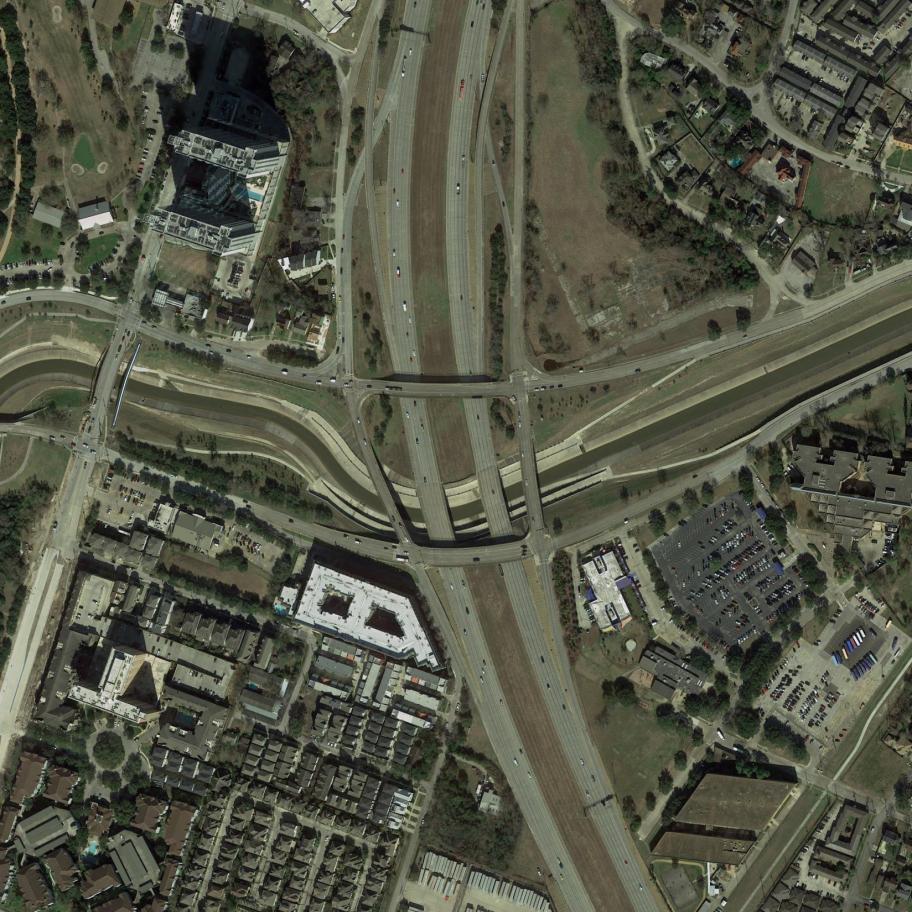large-vehicle: (445, 879, 456, 902), (401, 58, 408, 77), (860, 659, 871, 671), (862, 657, 873, 668), (835, 650, 843, 665), (848, 636, 857, 649), (855, 630, 864, 643), (849, 668, 858, 681), (855, 663, 864, 676), (846, 638, 854, 652), (733, 747, 747, 755), (865, 655, 875, 666), (868, 653, 878, 664), (843, 641, 851, 654), (459, 81, 464, 101), (858, 662, 867, 673), (884, 620, 893, 631), (841, 646, 848, 660), (852, 634, 860, 646), (853, 666, 861, 678), (832, 653, 839, 666), (868, 629, 877, 639), (717, 731, 726, 741), (892, 637, 898, 651), (386, 387, 402, 392), (396, 557, 409, 563), (859, 627, 866, 638), (355, 540, 361, 545), (462, 156, 465, 166), (397, 269, 400, 278), (404, 304, 407, 312), (457, 186, 460, 194)
small-vehicle: (735, 245, 742, 251), (292, 30, 299, 36), (804, 735, 810, 742), (53, 524, 58, 532), (170, 474, 178, 479), (324, 836, 330, 842), (513, 760, 519, 766), (859, 703, 865, 709), (527, 772, 532, 779), (580, 759, 585, 766), (585, 790, 590, 797), (537, 869, 542, 876), (651, 622, 658, 627), (540, 656, 545, 663), (250, 276, 257, 281), (107, 273, 112, 280), (140, 258, 145, 265), (281, 371, 288, 376), (87, 427, 92, 434), (810, 738, 815, 745), (456, 703, 460, 711), (624, 860, 629, 866), (116, 721, 121, 727), (327, 740, 332, 746), (590, 618, 596, 623), (660, 606, 666, 611), (859, 605, 864, 611), (863, 148, 869, 153), (866, 141, 872, 146), (314, 736, 319, 742), (214, 277, 220, 282), (143, 149, 149, 154), (143, 90, 149, 95), (47, 268, 53, 273), (70, 242, 75, 248), (257, 545, 262, 551), (252, 542, 257, 548), (171, 678, 176, 684), (148, 633, 153, 639), (284, 623, 290, 628), (246, 504, 252, 509), (343, 534, 349, 539), (83, 462, 88, 468), (119, 508, 124, 514), (119, 493, 124, 499), (137, 500, 142, 506), (139, 493, 144, 499), (795, 695, 800, 701), (778, 594, 784, 599), (788, 580, 794, 585), (835, 612, 841, 617), (716, 907, 722, 912), (831, 698, 837, 703), (816, 721, 822, 726), (745, 549, 751, 554), (743, 557, 749, 562), (760, 545, 766, 550), (636, 585, 642, 590), (634, 580, 640, 585), (769, 537, 775, 542), (727, 526, 733, 531), (758, 610, 763, 616), (755, 608, 761, 613), (686, 597, 692, 602), (462, 582, 466, 589), (639, 884, 643, 891), (481, 75, 485, 82), (157, 649, 161, 656), (151, 646, 155, 653), (93, 402, 97, 409), (118, 345, 122, 352), (512, 397, 517, 402), (664, 534, 669, 539), (559, 875, 564, 880), (559, 864, 564, 869), (203, 688, 208, 693), (881, 603, 886, 608), (761, 484, 766, 489), (783, 472, 788, 477), (787, 467, 792, 472), (707, 169, 712, 174), (694, 112, 699, 117), (855, 592, 860, 597), (745, 499, 750, 504), (739, 492, 744, 497), (875, 609, 880, 614), (861, 607, 866, 612), (867, 603, 872, 608), (871, 606, 876, 611), (803, 34, 808, 39), (907, 30, 912, 35), (783, 112, 788, 117), (238, 269, 243, 274), (75, 616, 80, 621), (156, 637, 161, 642), (293, 628, 298, 633), (134, 492, 139, 497), (768, 680, 773, 685), (768, 534, 773, 539), (787, 708, 792, 713), (788, 706, 793, 711), (790, 704, 795, 709), (801, 687, 806, 692), (761, 712, 766, 717), (759, 710, 764, 715), (785, 700, 790, 705), (800, 681, 805, 686), (776, 596, 781, 601), (786, 589, 791, 594), (779, 588, 784, 593), (784, 585, 789, 590), (795, 570, 800, 575), (796, 643, 801, 648), (836, 692, 841, 697), (804, 846, 809, 851), (825, 816, 830, 821), (829, 693, 834, 698), (810, 702, 815, 707), (808, 723, 813, 728), (809, 721, 814, 726), (815, 714, 820, 719), (752, 550, 757, 555), (726, 569, 731, 574), (682, 520, 687, 525), (703, 504, 708, 509), (671, 568, 676, 573), (686, 615, 691, 620), (699, 639, 704, 644), (717, 591, 722, 596), (404, 536, 408, 542), (531, 517, 535, 523), (466, 609, 470, 615), (330, 741, 334, 747), (357, 418, 361, 424), (406, 413, 410, 419), (522, 550, 528, 554), (591, 776, 595, 782), (209, 690, 213, 696), (500, 700, 504, 706), (562, 704, 566, 710), (547, 685, 551, 691), (480, 677, 484, 683), (445, 723, 449, 729), (742, 336, 748, 340), (756, 519, 762, 523), (692, 475, 698, 479), (777, 105, 781, 111), (867, 47, 873, 51), (648, 134, 652, 140), (840, 75, 844, 81), (819, 78, 823, 84), (334, 743, 338, 749), (253, 109, 257, 115), (279, 704, 283, 710), (343, 383, 349, 387), (207, 335, 213, 339), (205, 345, 211, 349), (226, 293, 230, 299), (245, 287, 249, 293), (232, 283, 238, 287), (340, 268, 344, 274), (169, 158, 173, 164), (151, 173, 157, 177), (152, 120, 158, 124), (165, 124, 171, 128), (162, 179, 166, 185), (129, 298, 133, 304), (316, 382, 322, 386), (255, 543, 259, 549), (243, 535, 247, 541), (239, 533, 243, 539), (232, 525, 236, 531), (246, 522, 250, 528), (127, 330, 131, 336), (106, 480, 112, 484), (107, 476, 113, 480), (144, 467, 150, 471), (90, 450, 96, 454), (122, 336, 126, 342), (143, 494, 147, 500), (124, 495, 128, 501), (127, 496, 131, 502), (135, 499, 139, 505), (140, 501, 144, 507), (131, 475, 135, 481), (129, 489, 133, 495), (761, 690, 765, 696), (765, 685, 769, 691), (826, 671, 830, 677), (804, 581, 810, 585), (780, 665, 784, 671), (783, 660, 787, 666), (792, 647, 796, 653), (813, 643, 819, 647), (830, 619, 836, 623), (833, 614, 839, 618), (815, 831, 821, 835), (220, 31, 224, 37), (724, 28, 730, 32), (833, 881, 837, 887), (871, 827, 875, 833), (869, 900, 875, 904), (864, 904, 870, 908), (819, 745, 823, 751), (839, 734, 845, 738), (757, 541, 763, 545), (732, 564, 738, 568), (690, 591, 696, 595), (705, 578, 711, 582), (733, 559, 739, 563), (678, 523, 684, 527), (700, 546, 706, 550), (708, 541, 714, 545), (710, 539, 716, 543), (712, 537, 718, 541), (720, 532, 726, 536), (730, 566, 736, 570), (735, 627, 741, 631), (764, 563, 768, 569), (767, 561, 771, 567), (682, 626, 686, 632), (672, 604, 678, 608), (689, 596, 695, 600), (697, 592, 703, 596), (715, 579, 721, 583), (762, 557, 766, 563), (525, 479, 528, 486), (403, 552, 410, 555), (221, 291, 224, 298), (108, 509, 111, 516), (517, 412, 521, 417), (450, 585, 454, 590), (469, 76, 473, 81), (416, 439, 420, 444), (521, 546, 526, 550), (522, 554, 527, 558), (98, 794, 102, 799), (206, 690, 210, 695), (199, 687, 203, 692), (211, 692, 215, 697), (134, 738, 139, 742), (519, 749, 523, 754), (624, 520, 629, 524), (633, 544, 638, 548), (635, 549, 640, 553), (584, 603, 589, 607), (589, 613, 594, 617), (878, 600, 883, 604), (822, 543, 826, 548), (875, 562, 879, 567), (757, 478, 761, 483), (790, 465, 795, 469), (867, 264, 872, 268), (763, 123, 768, 127), (876, 598, 881, 602), (859, 597, 864, 601), (865, 602, 870, 606), (760, 524, 765, 528), (750, 506, 755, 510), (747, 502, 752, 506), (863, 609, 868, 613), (871, 614, 875, 619), (863, 600, 868, 604), (691, 106, 696, 110), (686, 102, 690, 107), (857, 36, 861, 41), (859, 33, 863, 38), (875, 37, 880, 41), (897, 24, 902, 28), (895, 26, 900, 30), (843, 77, 847, 82), (723, 63, 728, 67), (790, 98, 794, 103), (797, 102, 801, 107), (810, 108, 814, 113), (842, 91, 846, 96), (821, 65, 825, 70), (829, 69, 833, 74), (1, 301, 6, 305), (152, 326, 157, 330), (226, 349, 231, 353), (236, 276, 241, 280), (240, 264, 245, 268), (151, 175, 156, 179), (139, 162, 144, 166), (147, 139, 152, 143), (148, 133, 153, 137), (157, 112, 162, 116), (93, 265, 97, 270), (97, 262, 101, 267), (105, 259, 109, 264), (111, 252, 116, 256), (323, 212, 328, 216), (302, 375, 307, 379), (104, 524, 108, 529), (139, 578, 144, 582), (214, 543, 219, 547), (214, 540, 219, 544), (242, 541, 246, 546), (248, 539, 252, 544), (246, 538, 250, 543), (236, 533, 240, 538), (76, 614, 81, 618), (216, 679, 220, 684), (213, 678, 217, 683), (200, 674, 204, 679), (192, 671, 196, 676), (177, 680, 181, 685), (189, 670, 193, 675), (122, 625, 126, 630), (169, 641, 173, 646), (164, 639, 168, 644), (128, 524, 133, 528), (108, 472, 113, 476), (243, 500, 248, 504), (289, 520, 294, 524), (60, 436, 65, 440), (91, 419, 95, 424), (115, 355, 119, 360), (105, 483, 110, 487), (128, 518, 132, 523), (130, 512, 134, 517), (122, 487, 126, 492), (142, 479, 146, 484), (137, 477, 141, 482), (134, 476, 138, 481), (766, 532, 771, 536), (792, 700, 797, 704), (757, 707, 761, 712), (783, 706, 788, 710), (784, 703, 789, 707), (788, 697, 793, 701), (789, 694, 794, 698), (805, 682, 810, 686), (794, 689, 799, 693), (798, 684, 803, 688), (771, 678, 775, 683), (772, 675, 776, 680), (774, 672, 778, 677), (776, 670, 780, 675), (785, 592, 790, 596), (767, 602, 772, 606), (766, 598, 771, 602), (768, 596, 773, 600), (771, 594, 776, 598), (773, 592, 778, 596), (782, 587, 787, 591), (793, 568, 798, 572), (792, 565, 797, 569), (803, 590, 807, 595), (782, 663, 786, 668), (837, 609, 842, 613), (821, 679, 825, 684), (825, 682, 829, 687), (818, 825, 823, 829), (820, 823, 825, 827), (823, 819, 828, 823), (797, 858, 802, 862), (826, 893, 830, 898), (820, 891, 824, 896), (801, 883, 805, 888), (795, 863, 800, 867), (828, 879, 832, 884), (812, 874, 816, 879), (810, 873, 814, 878), (807, 871, 811, 876), (802, 715, 806, 720), (805, 709, 809, 714), (807, 706, 811, 711), (809, 704, 813, 709), (814, 697, 818, 702), (816, 694, 820, 699), (797, 712, 801, 717), (800, 710, 804, 715), (803, 704, 807, 709), (805, 702, 809, 707), (810, 693, 814, 698), (813, 689, 817, 694), (826, 698, 831, 702), (785, 721, 790, 725), (819, 708, 824, 712), (823, 713, 827, 718), (748, 547, 753, 551), (750, 546, 755, 550), (753, 544, 758, 548), (743, 552, 748, 556), (738, 555, 743, 559), (758, 547, 763, 551), (740, 559, 745, 563), (749, 552, 754, 556), (755, 549, 760, 553), (736, 556, 741, 560), (702, 582, 707, 586), (709, 575, 714, 579), (714, 573, 719, 577), (719, 569, 724, 573), (623, 557, 628, 561), (771, 550, 775, 555), (774, 543, 779, 547), (772, 541, 777, 545), (727, 520, 732, 524), (722, 524, 727, 528), (715, 530, 720, 534), (698, 542, 703, 546), (725, 529, 730, 533), (730, 524, 735, 528), (732, 522, 737, 526), (726, 646, 730, 651), (724, 644, 728, 649), (722, 642, 726, 647), (740, 623, 745, 627), (741, 621, 746, 625), (745, 619, 750, 623), (736, 621, 741, 625), (754, 606, 759, 610), (765, 577, 770, 581), (743, 572, 747, 577), (721, 573, 726, 577), (680, 625, 684, 630), (675, 622, 679, 627), (670, 618, 674, 623), (700, 610, 704, 615), (671, 602, 676, 606), (668, 597, 673, 601), (699, 590, 704, 594), (705, 586, 710, 590), (707, 584, 712, 588), (693, 635, 697, 640), (696, 636, 700, 641), (720, 589, 724, 594), (727, 606, 732, 610), (721, 612, 726, 616), (722, 594, 726, 599), (724, 592, 728, 597), (727, 590, 731, 595), (713, 594, 717, 599), (750, 566, 754, 571), (241, 102, 244, 108), (502, 201, 505, 207), (393, 251, 396, 257), (409, 318, 412, 324), (364, 440, 367, 446), (421, 426, 424, 432), (421, 819, 424, 825), (114, 721, 117, 727), (483, 662, 486, 668), (482, 669, 485, 675), (844, 166, 850, 169), (856, 39, 859, 45), (39, 273, 42, 279), (332, 292, 335, 298), (330, 379, 336, 382), (236, 273, 242, 276), (142, 118, 145, 124), (88, 267, 91, 273), (91, 266, 94, 272), (103, 260, 106, 266), (342, 235, 345, 241), (130, 568, 136, 571), (247, 546, 250, 552), (254, 549, 257, 555), (92, 601, 98, 604), (195, 672, 198, 678), (103, 487, 109, 490), (133, 490, 136, 496), (823, 676, 826, 682), (801, 591, 804, 597), (786, 657, 789, 663), (769, 616, 772, 622), (817, 829, 823, 832), (485, 780, 488, 786), (742, 537, 745, 543), (744, 535, 747, 541), (751, 531, 754, 537), (736, 564, 742, 567), (745, 557, 751, 560), (678, 542, 681, 548), (724, 544, 727, 550), (731, 539, 734, 545), (723, 610, 729, 613), (587, 608, 591, 612), (588, 610, 592, 614), (402, 688, 406, 692), (689, 104, 693, 108), (766, 491, 770, 495), (752, 508, 756, 512), (749, 504, 753, 508), (861, 599, 865, 603), (869, 613, 873, 617), (869, 605, 873, 609), (874, 608, 878, 612), (900, 20, 904, 24), (795, 101, 799, 105), (813, 110, 817, 114), (802, 56, 806, 60), (823, 67, 827, 71), (142, 321, 146, 325), (116, 245, 120, 249), (118, 240, 122, 244), (241, 536, 245, 540), (218, 681, 222, 685), (79, 606, 83, 610), (124, 488, 128, 492), (762, 526, 766, 530), (765, 530, 769, 534), (767, 684, 771, 688), (798, 692, 802, 696), (801, 851, 805, 855), (804, 885, 808, 889), (812, 699, 816, 703), (801, 707, 805, 711), (806, 699, 810, 703), (828, 705, 832, 709), (821, 706, 825, 710), (815, 723, 819, 727), (820, 717, 824, 721), (821, 715, 825, 719), (811, 720, 815, 724), (814, 716, 818, 720), (818, 710, 822, 714), (755, 542, 759, 546), (724, 565, 728, 569), (725, 522, 729, 526), (762, 581, 766, 585), (715, 651, 719, 655), (711, 648, 715, 652), (747, 595, 751, 599), (736, 577, 740, 581), (744, 593, 748, 597), (691, 633, 695, 637), (677, 623, 681, 627), (702, 641, 706, 645), (704, 643, 708, 647), (541, 388, 546, 391), (521, 452, 524, 457), (491, 489, 494, 494), (392, 517, 395, 522), (399, 523, 402, 528), (392, 546, 397, 549), (384, 549, 389, 552), (464, 631, 467, 636), (550, 387, 555, 390), (635, 370, 640, 373), (476, 415, 479, 420), (492, 161, 495, 166), (393, 189, 396, 194), (460, 295, 463, 300), (413, 351, 416, 356), (883, 551, 888, 554), (854, 538, 859, 541), (862, 47, 867, 50), (870, 42, 875, 45), (906, 14, 911, 17), (471, 21, 474, 26), (846, 78, 849, 83), (788, 96, 791, 101), (804, 71, 807, 76), (9, 279, 12, 284), (5, 265, 8, 270), (7, 264, 10, 269), (15, 263, 18, 268), (18, 262, 21, 267), (29, 260, 32, 265), (37, 260, 40, 265), (208, 352, 213, 355), (246, 356, 251, 359), (233, 281, 238, 284), (50, 260, 53, 265), (137, 171, 142, 174), (138, 168, 143, 171), (143, 153, 148, 156), (142, 96, 147, 99), (222, 4, 225, 9), (165, 173, 168, 178), (161, 185, 164, 190), (101, 261, 104, 266), (99, 232, 104, 235), (322, 220, 325, 225), (258, 552, 261, 557), (262, 554, 265, 559), (88, 615, 93, 618), (142, 644, 145, 649), (167, 654, 170, 659), (214, 658, 217, 663), (110, 468, 115, 471), (50, 437, 55, 440), (71, 443, 76, 446), (83, 445, 88, 448), (125, 329, 128, 334), (124, 473, 127, 478), (133, 498, 136, 503), (120, 485, 123, 490), (772, 693, 777, 696), (776, 688, 781, 691), (778, 685, 783, 688), (785, 675, 790, 678), (797, 666, 802, 669), (764, 688, 767, 693), (825, 674, 828, 679), (796, 687, 801, 690), (760, 588, 763, 593), (765, 585, 768, 590), (770, 581, 773, 586), (816, 641, 821, 644), (766, 618, 769, 623), (771, 615, 774, 620), (778, 609, 781, 614), (786, 604, 789, 609), (796, 595, 799, 600), (802, 849, 807, 852), (832, 895, 835, 900), (829, 894, 832, 899), (817, 890, 820, 895), (796, 882, 799, 887), (804, 712, 807, 717), (812, 691, 815, 696), (816, 687, 819, 692), (835, 739, 840, 742), (730, 547, 733, 552), (732, 546, 735, 551), (688, 578, 691, 583), (741, 554, 746, 557), (748, 555, 753, 558), (728, 563, 733, 566), (692, 568, 695, 573), (617, 544, 622, 547), (714, 508, 717, 513), (749, 527, 752, 532), (729, 541, 732, 546), (734, 537, 737, 542), (741, 532, 744, 537), (724, 572, 729, 575), (750, 630, 753, 635), (743, 615, 748, 618), (748, 597, 753, 600), (758, 568, 761, 573), (756, 586, 761, 589), (739, 582, 742, 587), (741, 580, 744, 585), (746, 577, 749, 582), (750, 573, 753, 578), (752, 571, 755, 576), (760, 567, 763, 572), (762, 565, 765, 570), (746, 569, 749, 574), (739, 575, 742, 580), (697, 606, 700, 611), (695, 594, 700, 597), (720, 576, 725, 579), (723, 587, 726, 592), (756, 562, 759, 567), (758, 561, 761, 566), (760, 559, 763, 564), (473, 559, 480, 561), (579, 592, 581, 599), (519, 422, 521, 428), (424, 478, 427, 482), (397, 201, 399, 207), (349, 380, 353, 383), (99, 721, 101, 727), (581, 578, 585, 581), (355, 672, 359, 675), (885, 548, 889, 551), (853, 550, 857, 553), (902, 18, 906, 21), (899, 22, 903, 25), (414, 4, 417, 8), (812, 39, 815, 43), (786, 95, 789, 99), (738, 28, 742, 31), (838, 89, 841, 93), (806, 57, 809, 61), (838, 74, 841, 78), (7, 279, 9, 285), (2, 265, 4, 271), (13, 263, 15, 269), (34, 260, 37, 264), (46, 260, 48, 266), (339, 296, 341, 302), (74, 280, 76, 286), (61, 242, 65, 245), (142, 158, 146, 161), (113, 250, 117, 253), (132, 291, 135, 295), (236, 539, 239, 543), (251, 547, 253, 553), (138, 493, 141, 497), (781, 689, 785, 692), (787, 681, 791, 684), (760, 693, 763, 697), (723, 656, 726, 660), (799, 594, 801, 600), (781, 606, 783, 612), (791, 600, 794, 604), (808, 696, 811, 700), (825, 728, 828, 732), (777, 576, 780, 580), (740, 539, 742, 545), (749, 533, 752, 537), (706, 565, 708, 571), (703, 566, 705, 572), (738, 561, 742, 564), (731, 561, 735, 564), (715, 514, 717, 520), (719, 513, 722, 517), (727, 543, 729, 549), (746, 529, 749, 533), (754, 628, 756, 634), (740, 618, 744, 621), (734, 578, 737, 582), (759, 584, 763, 587), (744, 579, 747, 583), (748, 575, 751, 579), (748, 568, 751, 572), (741, 574, 744, 578), (683, 613, 686, 617), (713, 581, 717, 584), (733, 603, 737, 606), (731, 605, 735, 608), (715, 600, 718, 604), (711, 596, 714, 600), (753, 565, 756, 569), (765, 556, 768, 560), (558, 386, 563, 388), (534, 389, 539, 391), (414, 402, 416, 407), (580, 581, 585, 583), (410, 50, 412, 55), (885, 546, 890, 548), (835, 572, 837, 577), (11, 264, 13, 269), (21, 262, 23, 267), (40, 260, 42, 265), (43, 259, 45, 264), (343, 338, 345, 343), (337, 348, 339, 353), (236, 279, 241, 281), (339, 333, 341, 338), (79, 282, 81, 287), (240, 541, 242, 546), (781, 681, 786, 683), (792, 674, 797, 676), (777, 694, 782, 696), (779, 692, 784, 694), (786, 585, 791, 587), (768, 583, 770, 588), (774, 613, 776, 618), (784, 605, 786, 610), (728, 865, 730, 870), (843, 730, 848, 732), (775, 577, 777, 582), (728, 549, 730, 554), (735, 543, 737, 548), (737, 541, 739, 546), (747, 534, 749, 539), (683, 582, 685, 587), (698, 571, 700, 576), (708, 558, 710, 563), (711, 555, 713, 560), (710, 520, 712, 525), (721, 505, 723, 510), (724, 503, 726, 508), (725, 509, 727, 514), (722, 546, 724, 551), (737, 534, 739, 539), (744, 530, 746, 535), (743, 636, 745, 641), (739, 639, 741, 644), (719, 619, 721, 624), (801, 718, 804, 721), (410, 358, 412, 362), (367, 386, 371, 388), (864, 44, 868, 46), (483, 5, 485, 9), (27, 298, 31, 300), (32, 260, 34, 264), (48, 260, 50, 264), (58, 256, 62, 258), (341, 249, 343, 253), (771, 696, 775, 698), (775, 691, 779, 693), (781, 683, 785, 685), (785, 684, 789, 686), (788, 679, 792, 681), (794, 671, 798, 673), (774, 700, 778, 702), (261, 112, 263, 116), (816, 875, 818, 879), (773, 580, 775, 584), (708, 564, 710, 568), (707, 520, 709, 524), (722, 512, 724, 516), (727, 507, 729, 511), (732, 504, 734, 508), (729, 612, 731, 616), (746, 633, 748, 637), (707, 645, 709, 649), (734, 609, 736, 613), (737, 606, 739, 610), (26, 262, 28, 265), (783, 678, 786, 680), (789, 671, 792, 673), (716, 623, 718, 626), (812, 23, 813, 28), (742, 638, 743, 643), (402, 170, 403, 174), (407, 334, 408, 338), (24, 262, 25, 266), (776, 697, 780, 698), (764, 587, 765, 591), (703, 561, 704, 565), (749, 632, 750, 636)
